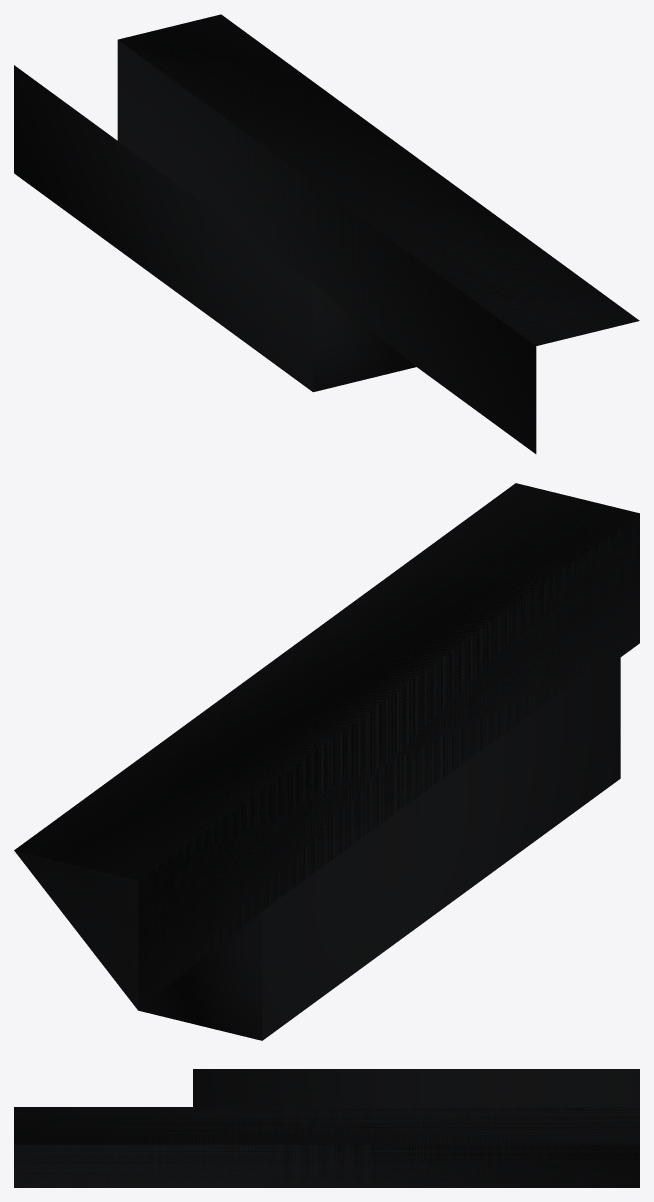
3 views of the same model, one above another, from view 1: azimuth 30°, elevation 25°; view 2: azimuth 150°, elevation 25°; view 3: azimuth 270°, elevation 25° (orthographic). The views are drawn at different scales.
Bounding box in the file's own units: 0.48 × 0.24 × 1.68.
1 material, 1 textured.
